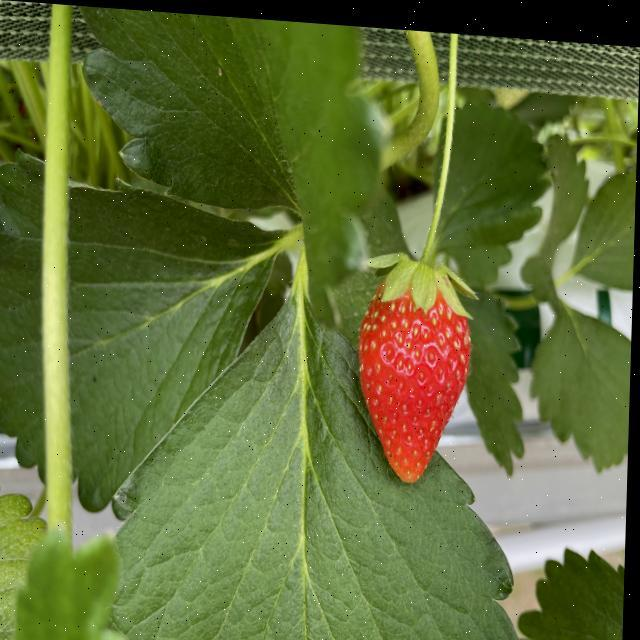stem: (369, 32, 473, 316)
strawberryR: (357, 296, 467, 483)
